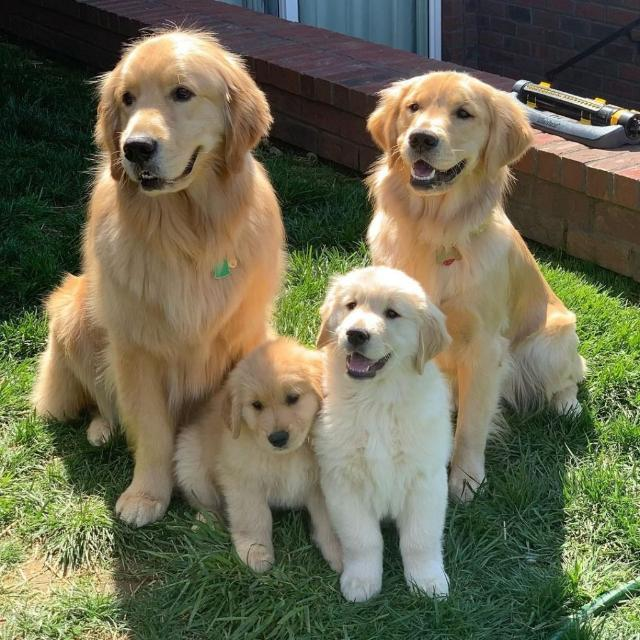dog: (27, 0, 285, 462), (380, 48, 588, 462), (286, 247, 486, 611)
